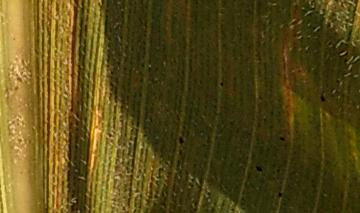tarspot: (317, 90, 327, 104), (177, 134, 185, 147), (254, 164, 264, 174), (276, 191, 286, 200), (278, 135, 288, 143), (257, 95, 265, 102), (218, 80, 224, 89)
